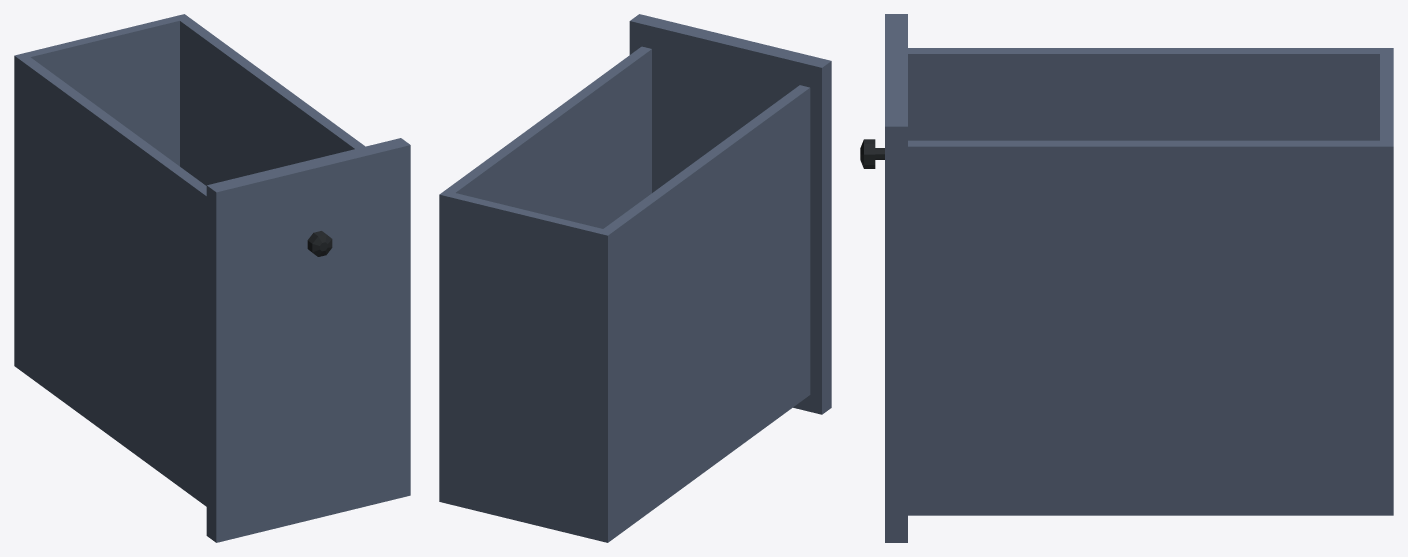
File: Door3_C4_08.fbx
The picture shows the model from 3 angles, left to right: view 1: azimuth 30°, elevation 25°; view 2: azimuth 150°, elevation 25°; view 3: azimuth 270°, elevation 25°; orthographic projection. The views are drawn at different scales.
Visible parts, largest first — view 1: Door3_C4_08; view 2: Door3_C4_08; view 3: Door3_C4_08.
Boxes of the visible parts, <box> form: Door3_C4_08: <box>14,14,410,542</box>; Door3_C4_08: <box>439,14,831,542</box>; Door3_C4_08: <box>860,14,1393,542</box>.
Size of the model in its own units: 29 by 50 by 58.03.
